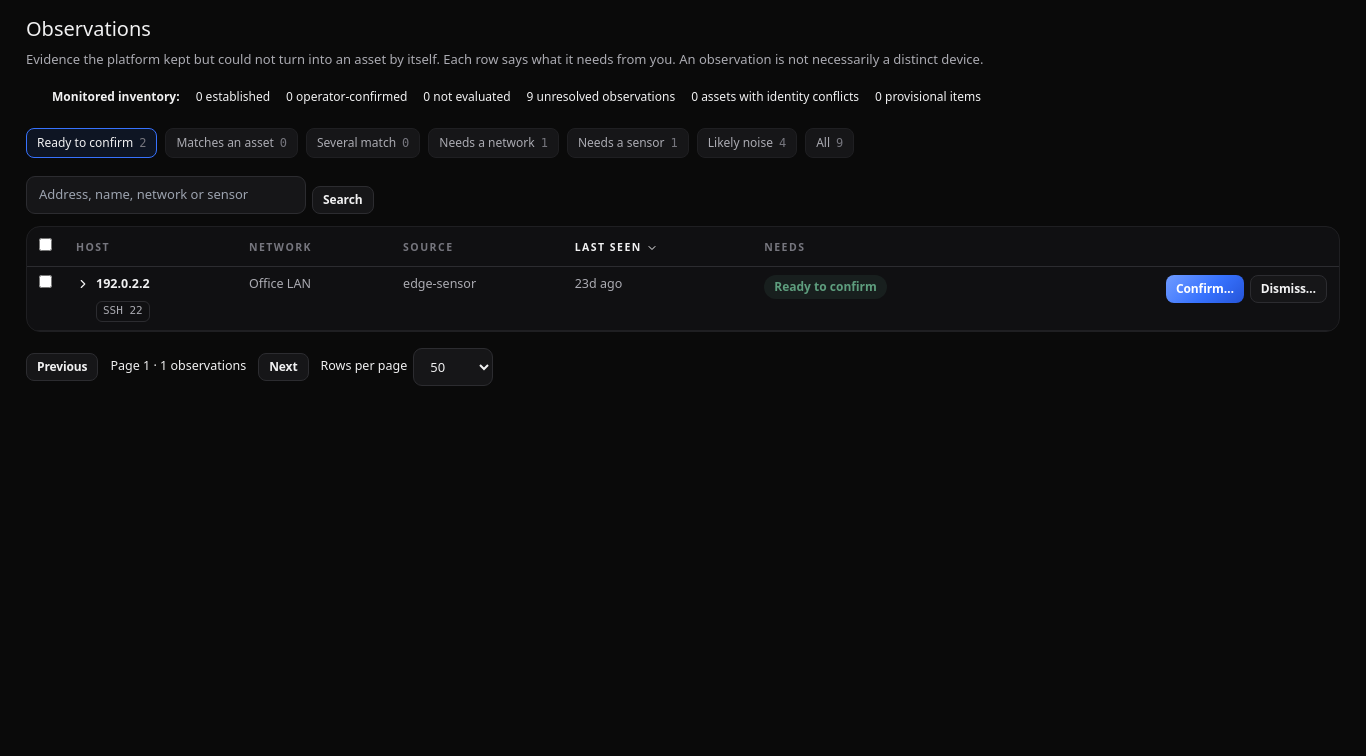
Test: what this needs › explains a DHCP row and offers "Treat this network as stable…" as a plain link and nothing else (D2)
Click the button "192.0.2.2" at (113, 284), box [76, 275, 150, 294]
(page scrolled)
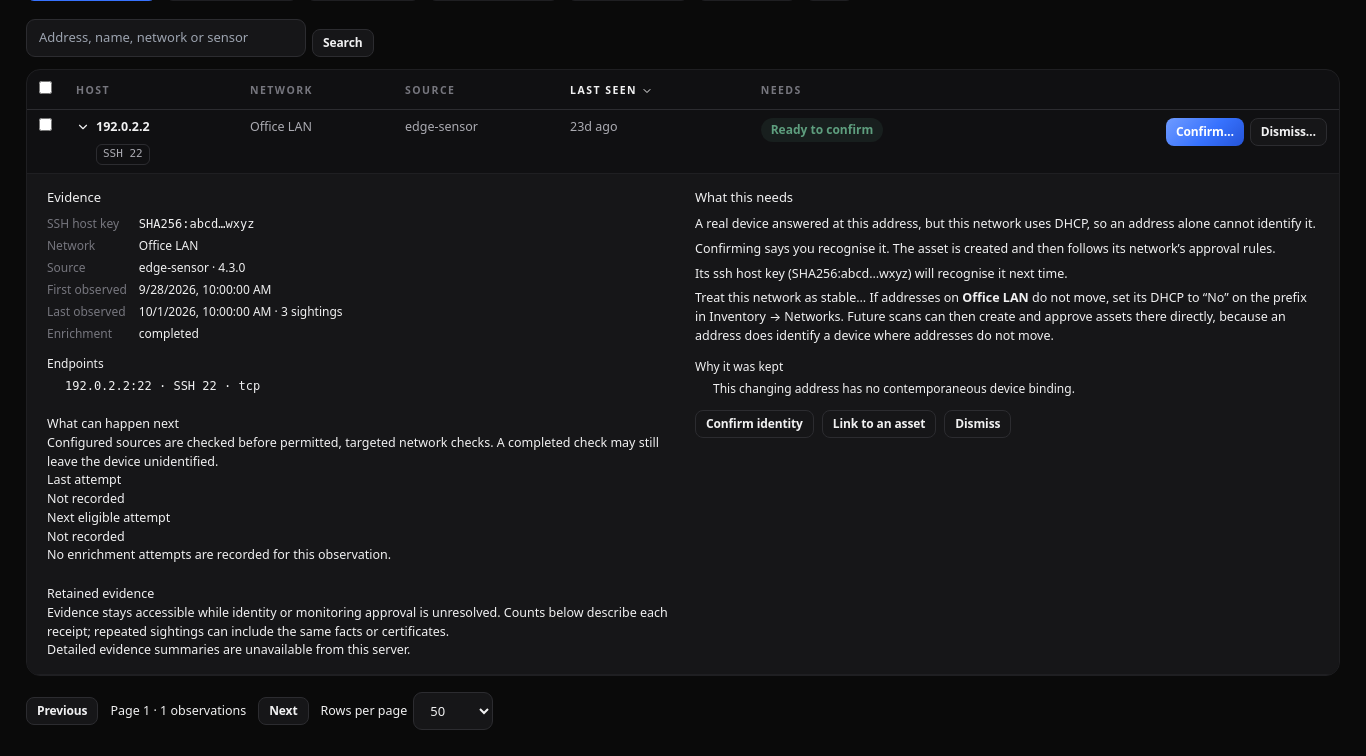
Result: the element named "What this needs" shows "A real device answered at this address, but this network uses DHCP" at [695, 215, 1316, 232]
Result: the element named "What this needs" shows "Its ssh host key (SHA256:abcd…wxyz) will recognise it next time." at [695, 265, 1068, 282]
Result: the element named "What this needs" shows "Future scans can then create and approve assets there directly" at [695, 289, 1307, 344]
